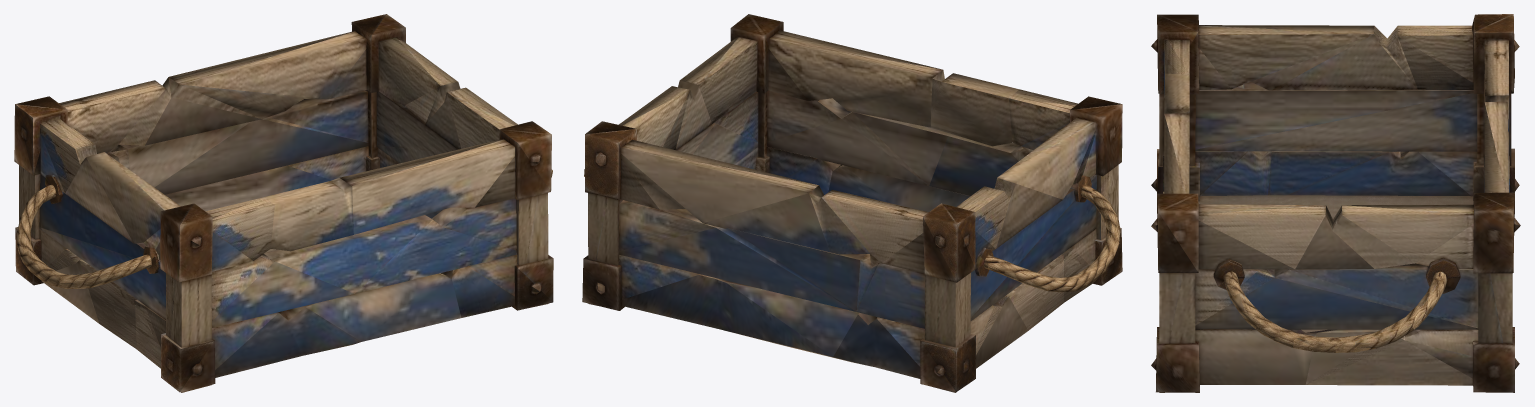
File: opening-crate.glb
3 views of the same model, side by side, from view 1: azimuth 30°, elevation 25°; view 2: azimuth 150°, elevation 25°; view 3: azimuth 270°, elevation 25° (orthographic). The views are drawn at different scales.
Visible parts, largest first — view 1: mesh_node; view 2: mesh_node; view 3: mesh_node.
Boxes of the visible parts, x1,y1,x2,y2 form: mesh_node: [14, 14, 553, 392]; mesh_node: [582, 14, 1122, 392]; mesh_node: [1151, 14, 1520, 392].
Bounding box in the file's own units: 1 × 0.332 × 0.6055.
1 material, 1 textured.
